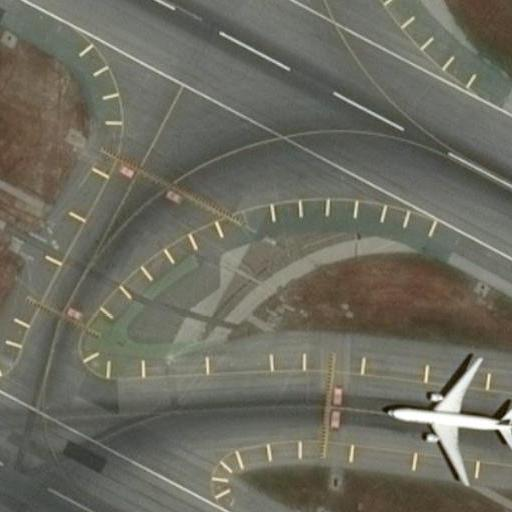Aircraft: (381, 351, 512, 479)
